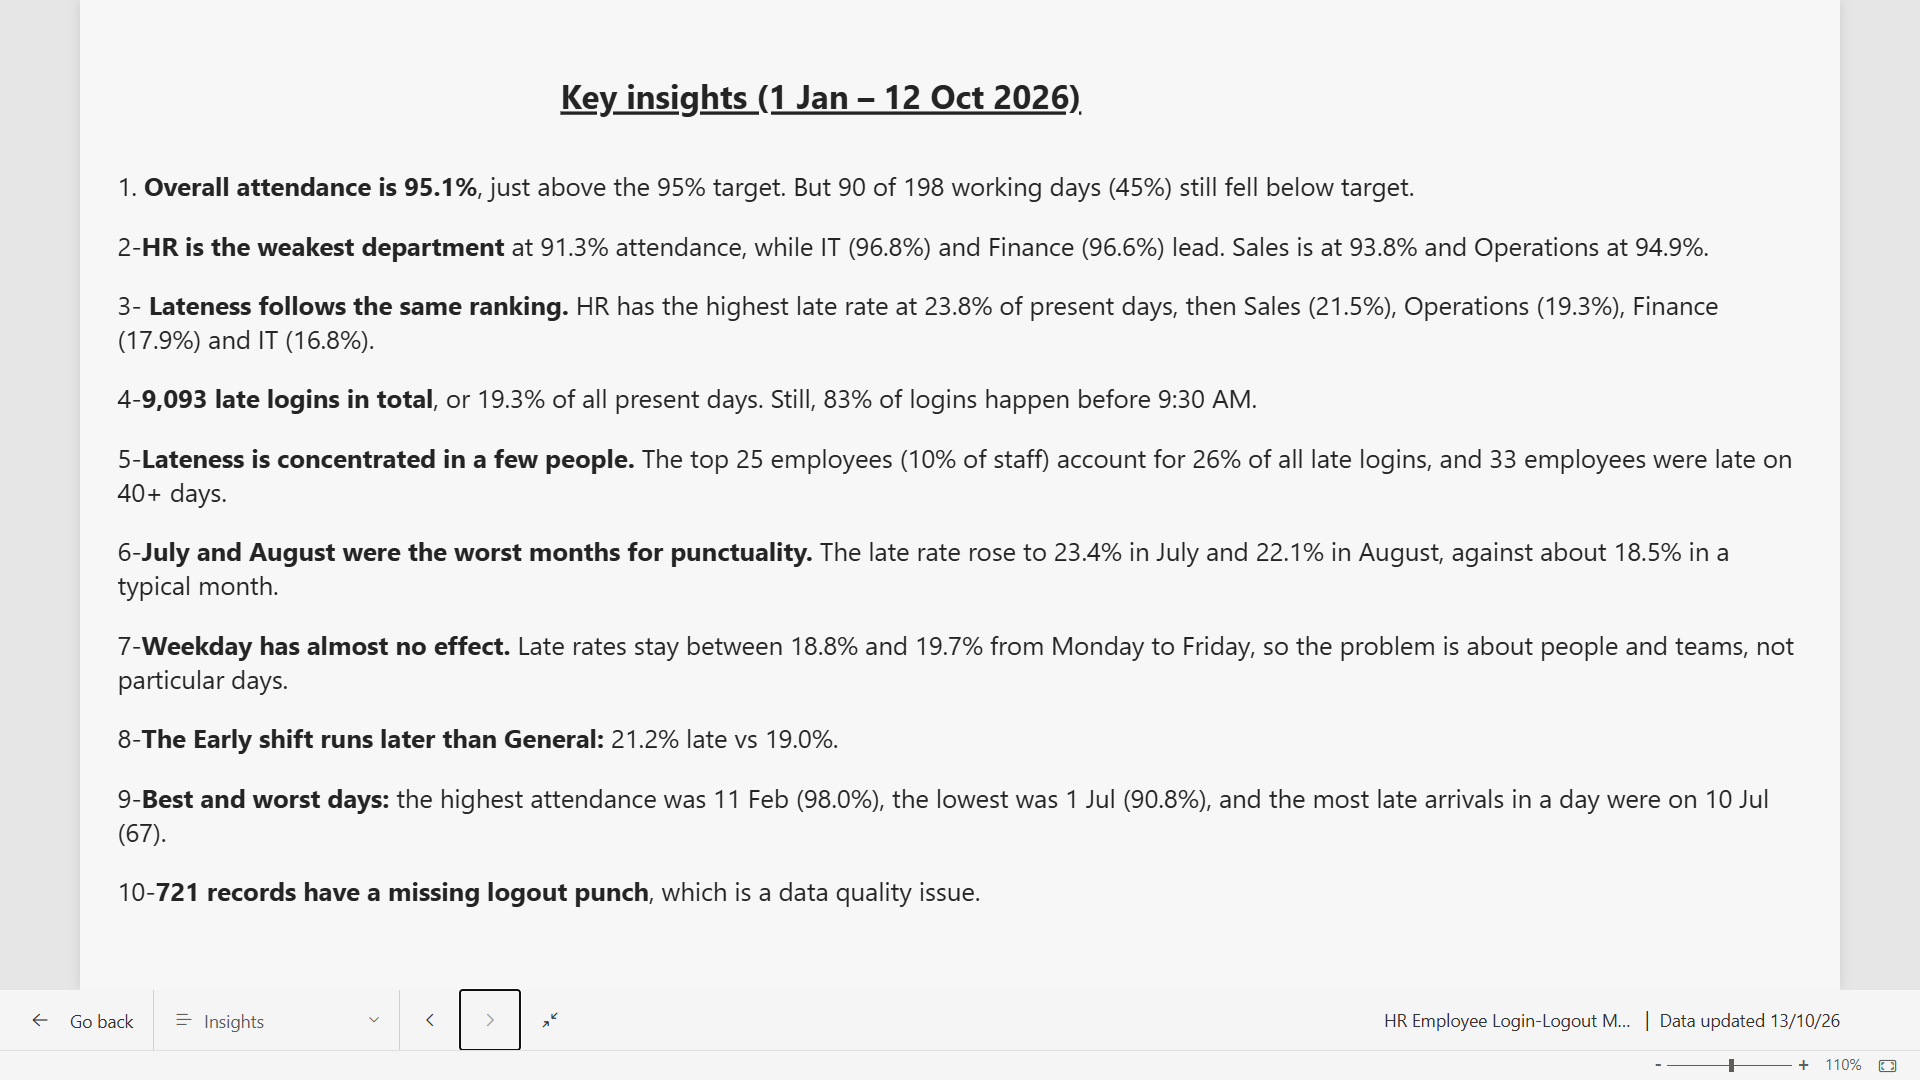

What the dashboard file says about the page in this screenshot:
{"tool":"powerbi","page":{"name":"Insights","canvas":[1280,720],"ordinal":1},"visuals":[{"type":"textbox","box":[27.5,35,1225,646.2],"z":0}]}

Visuals, with their boxes on the page's 1280x720 design canvas (x1, y1, x2, y2). These are canvas units, not pixel positions in the 1920x1080 screenshot, which may show the page scaled, cropped or inside an application window:
textbox: bbox(28, 35, 1252, 681)
